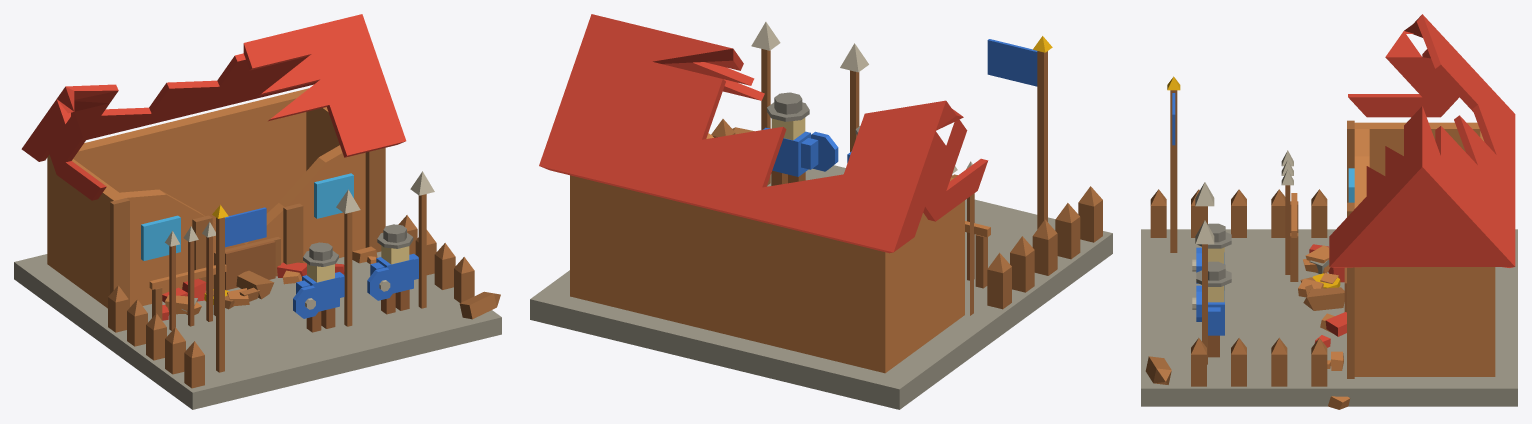
File: barracks_t2_v1_dmg1.glb
3 views of the same model, side by side, from view 1: azimuth 30°, elevation 25°; view 2: azimuth 150°, elevation 25°; view 3: azimuth 270°, elevation 25° (orthographic). The views are drawn at different scales.
Visible parts, largest first — view 1: barracks_t2_v1_dmg1; view 2: barracks_t2_v1_dmg1; view 3: barracks_t2_v1_dmg1.
Part boxes in pixels (<box>): barracks_t2_v1_dmg1: <box>14,14,501,409</box>; barracks_t2_v1_dmg1: <box>530,14,1112,409</box>; barracks_t2_v1_dmg1: <box>1141,14,1517,409</box>.
Bounding box in the file's own units: 0.7775 × 0.52 × 0.75.
1 material, 1 textured.
